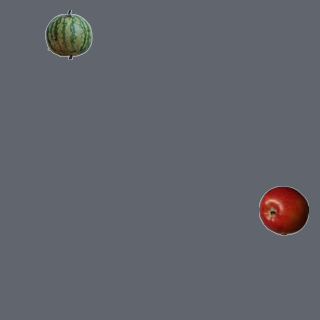Apple Braeburn: (258, 185, 308, 235)
Watermelon: (43, 9, 93, 59)
